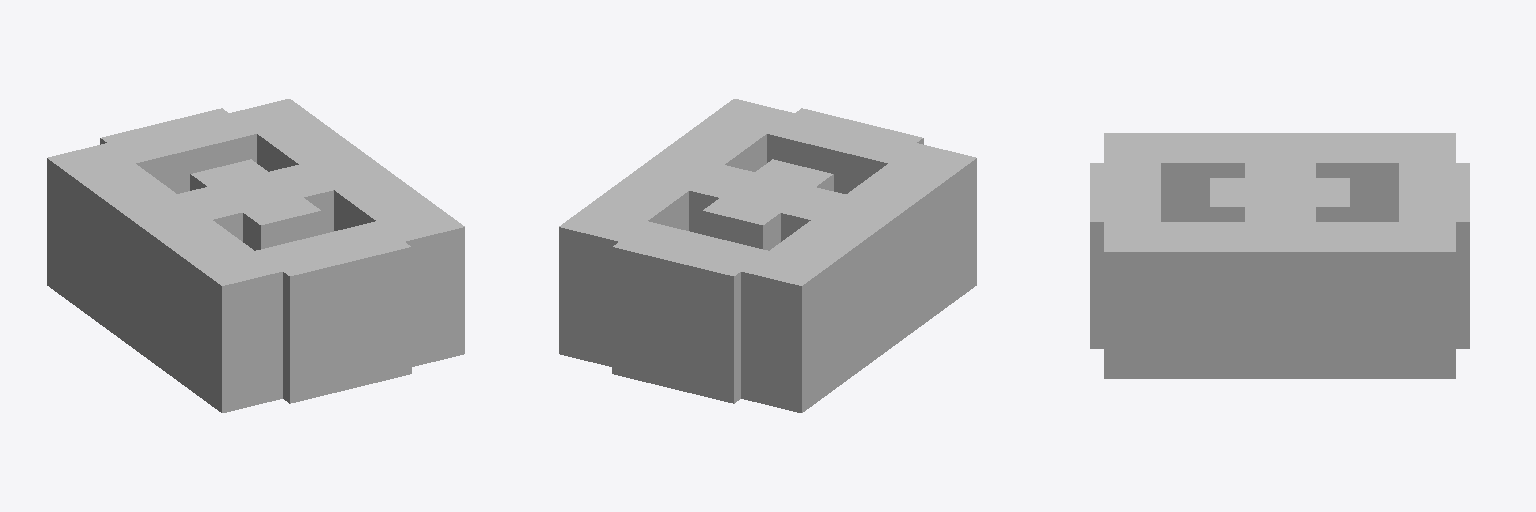
Rendered from minimal8Building.obj.
3 renders of one model, left to right at view 1: azimuth 30°, elevation 25°; view 2: azimuth 150°, elevation 25°; view 3: azimuth 270°, elevation 25°, orthographic.
Visible parts, largest first — view 1: Cube; view 2: Cube; view 3: Cube.
Boxes of the visible parts, x1,y1,x2,y2 form: Cube: [47, 99, 464, 412]; Cube: [559, 99, 976, 412]; Cube: [1090, 133, 1469, 378].
Bounding box in the file's own units: 4 × 2 × 5.4.